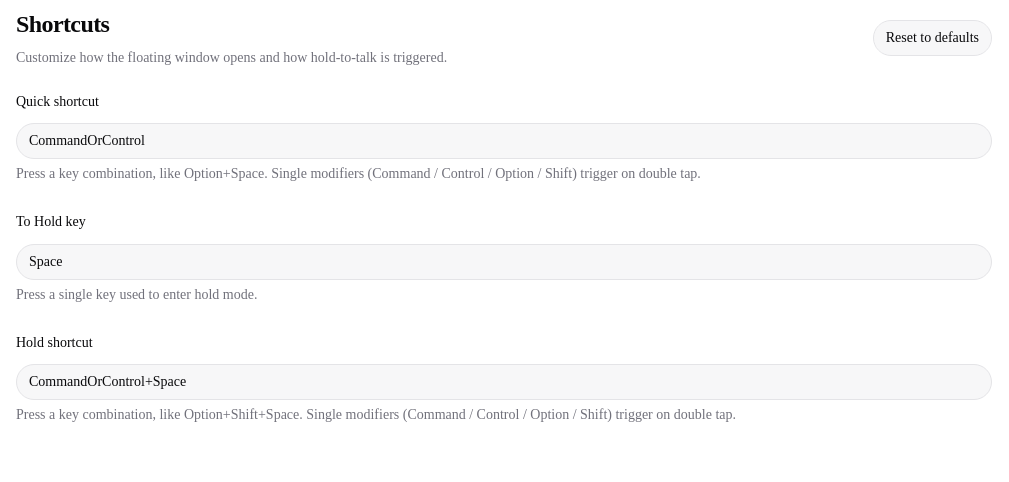
Shortcuts › handles rollback failure after save failure and keeps retry path
Press k in the field labelled "Quick shortcut", box [16,123,992,159]
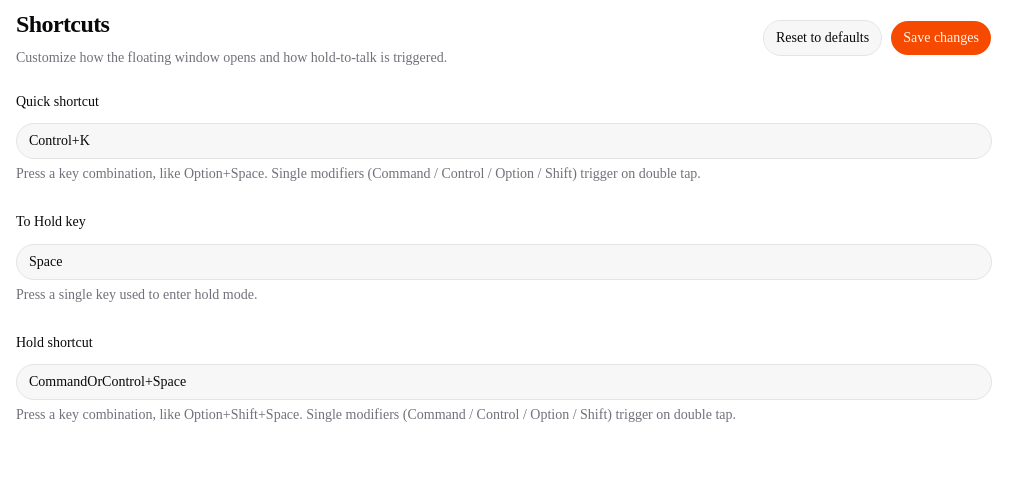
Click the button "Save changes" at coordinates (941, 38), box [890,20,992,56]
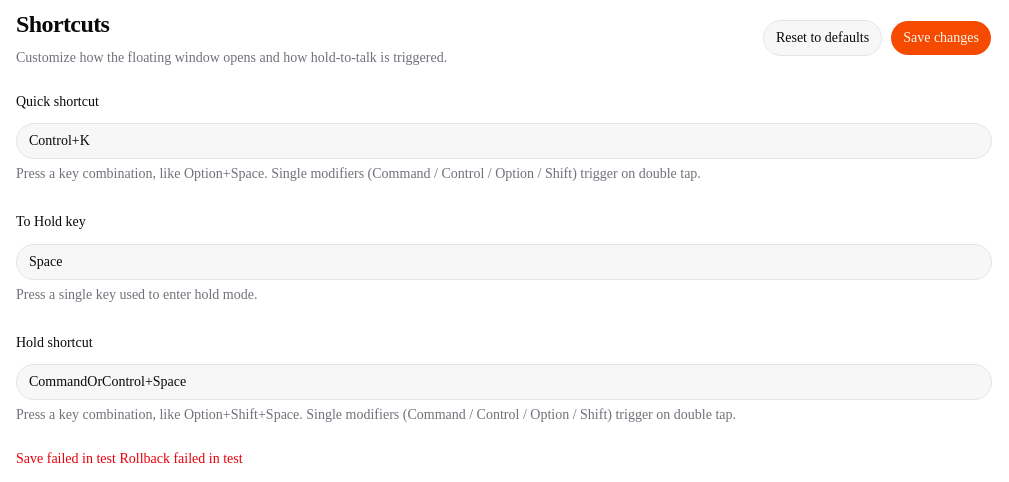
Expected: the field labelled "Quick shortcut" holds "Control+K", [16,123,992,159]
Expected: the button "Save changes" is enabled, [890,20,992,56]
Expected: the text "Save failed in test Rollback failed in test" is shown, [16,451,243,466]
